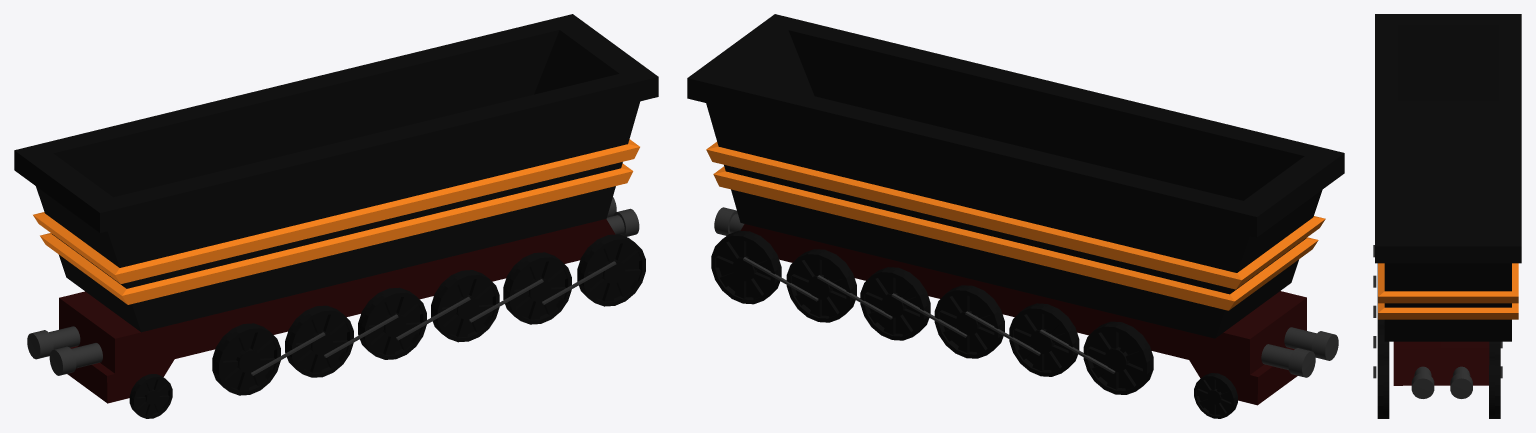
File: Wagon 1.fbx
3 views of the same model, side by side, from view 1: azimuth 30°, elevation 25°; view 2: azimuth 150°, elevation 25°; view 3: azimuth 270°, elevation 25° (orthographic). The views are drawn at different scales.
Visible parts, largest first — view 1: Box009, Cylinder011, Onderstel, Cylinder013, Box008, Cylinder012; view 2: Box009, Cylinder011, Onderstel, Cylinder013, Box008, Cylinder012; view 3: Box009, Onderstel, Cylinder011, Cylinder012, Box008.
Part boxes in pixels (<box>): Box009: <box>14,14,658,332</box>; Cylinder011: <box>129,234,645,418</box>; Onderstel: <box>59,219,615,403</box>; Cylinder013: <box>27,326,102,375</box>; Box008: <box>251,261,616,375</box>; Cylinder012: <box>606,197,639,236</box>; Box009: <box>687,14,1344,338</box>; Cylinder011: <box>711,230,1237,418</box>; Onderstel: <box>740,224,1306,405</box>; Cylinder013: <box>1261,327,1338,377</box>; Box008: <box>743,257,1115,373</box>; Cylinder012: <box>714,207,744,235</box>; Box009: <box>1375,14,1521,341</box>; Onderstel: <box>1393,341,1489,385</box>; Cylinder011: <box>1377,263,1500,418</box>; Cylinder012: <box>1411,366,1472,398</box>; Box008: <box>1373,245,1502,378</box>.
Bounding box in the file's own units: 44.78 × 16.39 × 11.69.
